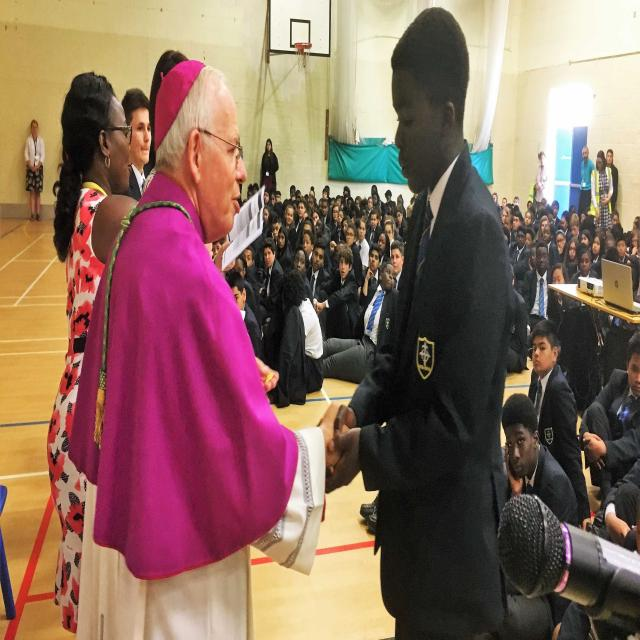body: (63, 55, 317, 639), (326, 2, 521, 640), (45, 70, 140, 636), (210, 175, 420, 275), (550, 456, 640, 640), (527, 317, 592, 534), (579, 330, 640, 513), (500, 392, 580, 528), (321, 261, 399, 386), (495, 195, 640, 258), (146, 45, 192, 162), (313, 244, 361, 339), (293, 272, 325, 395), (492, 266, 528, 373), (120, 86, 153, 201), (226, 270, 262, 362), (252, 236, 285, 327), (522, 245, 553, 336), (24, 119, 46, 222), (590, 149, 614, 231), (358, 242, 382, 309), (548, 262, 574, 322), (577, 146, 595, 218), (533, 151, 549, 218), (261, 138, 279, 193), (605, 149, 619, 213), (388, 246, 405, 292), (575, 251, 598, 284), (616, 243, 632, 264)
